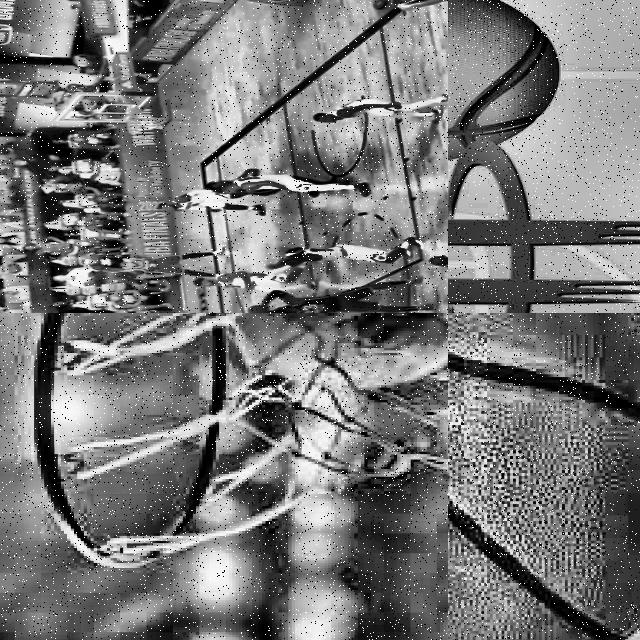Basketball: (448, 313, 640, 640), (448, 0, 560, 160), (247, 304, 268, 313)
